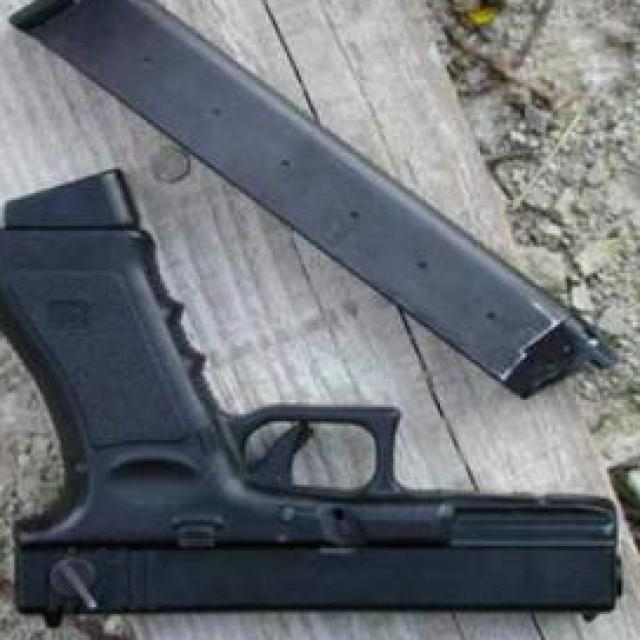pistol: (0, 172, 624, 624)
